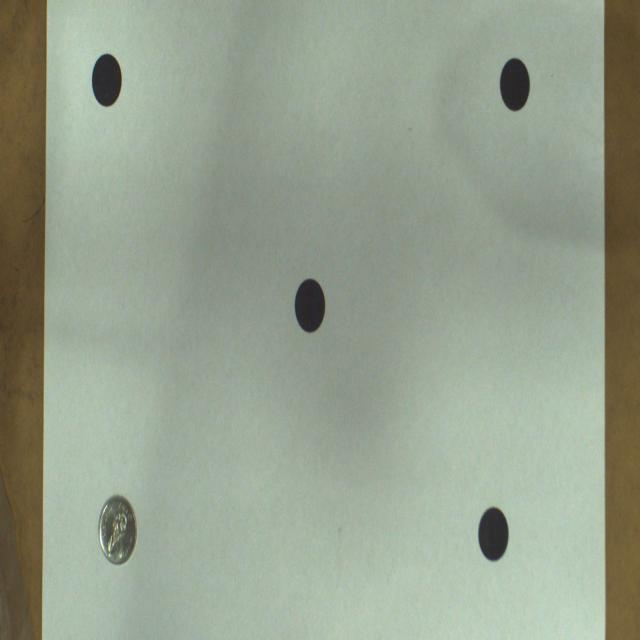space: (99, 496, 136, 564), (295, 278, 325, 333), (500, 58, 530, 111), (92, 53, 121, 107), (479, 509, 509, 560)
